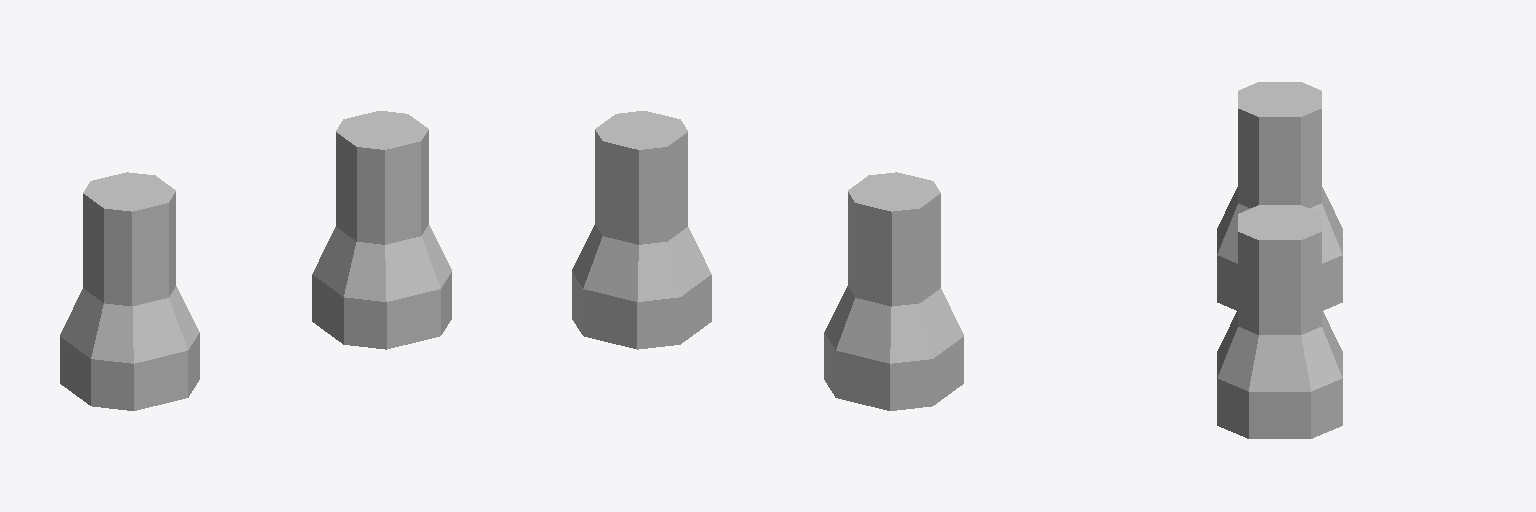
Rendered from support-two-bottom.obj.
3 views of the same model, side by side, from view 1: azimuth 30°, elevation 25°; view 2: azimuth 150°, elevation 25°; view 3: azimuth 270°, elevation 25° (orthographic).
Parts seen in each view (by area): view 1: support-two-bottom; view 2: support-two-bottom; view 3: support-two-bottom.
Part boxes in pixels (x1,y1,x2,y2): support-two-bottom: (60, 111, 451, 410); support-two-bottom: (572, 111, 963, 410); support-two-bottom: (1217, 82, 1342, 438).
Bounding box in the file's own units: 0.9969 × 0.5 × 0.3.